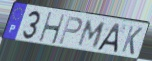3: (20, 10, 42, 42)
A: (95, 22, 121, 54)
H: (38, 12, 66, 46)
K: (120, 25, 144, 56)
M: (75, 19, 107, 50)
P: (58, 15, 84, 46)
